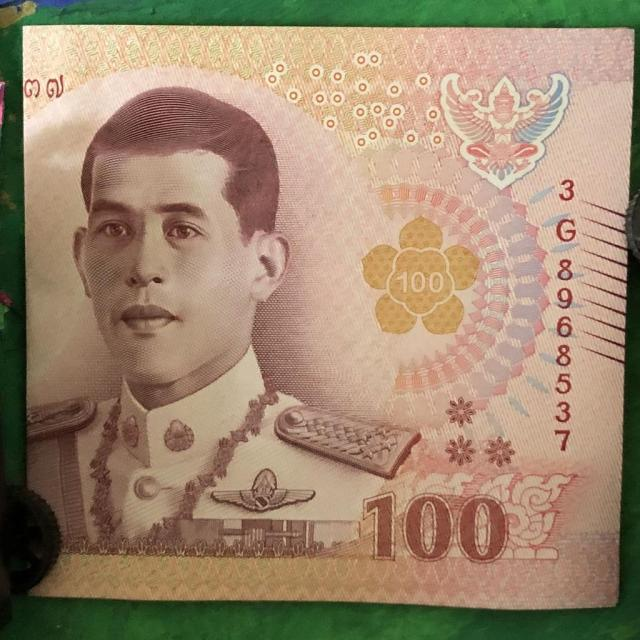THAI100: (22, 25, 634, 609)
